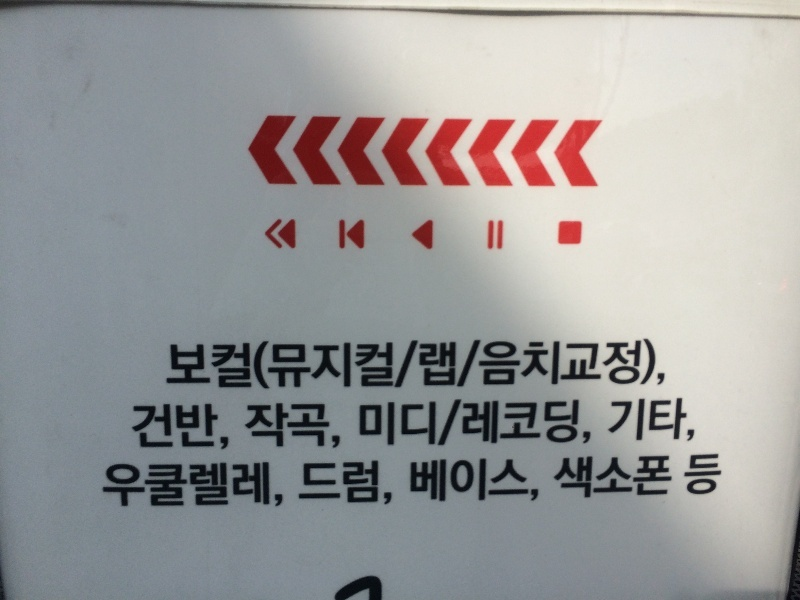text: (177, 338, 192, 393), (193, 338, 208, 393), (209, 338, 224, 393), (225, 338, 240, 393), (241, 338, 256, 393), (257, 338, 272, 393), (273, 338, 288, 393), (289, 338, 304, 393), (305, 338, 320, 393), (321, 338, 336, 393), (337, 338, 352, 393), (353, 338, 368, 393), (369, 338, 384, 393), (385, 338, 400, 393), (401, 338, 416, 393), (417, 338, 432, 393), (433, 338, 448, 393), (449, 338, 464, 393), (465, 338, 480, 393), (481, 338, 496, 393), (497, 338, 512, 393), (513, 338, 528, 393), (529, 338, 544, 393), (545, 338, 560, 393), (561, 338, 576, 393), (577, 338, 592, 393), (593, 338, 608, 393), (609, 338, 624, 393), (625, 338, 640, 393), (641, 338, 656, 393), (129, 402, 144, 452), (145, 402, 160, 452), (161, 402, 176, 452), (177, 402, 192, 452), (193, 402, 208, 452), (209, 402, 224, 452), (257, 402, 272, 452), (273, 402, 288, 452), (289, 402, 304, 452), (305, 402, 320, 452), (321, 402, 336, 452), (369, 399, 384, 449), (385, 399, 400, 449), (401, 399, 416, 449), (417, 399, 432, 449), (433, 399, 448, 449), (449, 399, 464, 449), (465, 399, 480, 449), (481, 399, 496, 449), (497, 399, 512, 449), (513, 399, 528, 449), (529, 399, 544, 449), (545, 399, 560, 449), (561, 399, 576, 449), (577, 399, 592, 449), (305, 459, 320, 509), (321, 459, 336, 509), (337, 459, 352, 509), (353, 459, 368, 509), (369, 459, 384, 509), (113, 462, 128, 511), (129, 462, 144, 511), (145, 462, 160, 511), (161, 462, 176, 511), (177, 462, 192, 511), (193, 462, 208, 511), (209, 462, 224, 511), (225, 462, 240, 511), (241, 462, 256, 511), (257, 462, 272, 511), (561, 452, 576, 501), (577, 452, 592, 501), (593, 452, 608, 501), (609, 452, 624, 501), (625, 452, 640, 501), (641, 452, 656, 501), (657, 452, 672, 501), (673, 452, 688, 501), (689, 452, 704, 501), (705, 452, 720, 501), (417, 457, 432, 505), (433, 457, 448, 505), (449, 457, 464, 505), (465, 457, 480, 505), (481, 457, 496, 505), (497, 457, 512, 505), (513, 457, 528, 505), (529, 457, 544, 505), (625, 398, 640, 444), (641, 398, 656, 444), (657, 398, 672, 444), (673, 398, 688, 444), (657, 338, 669, 393), (243, 402, 256, 452), (610, 398, 624, 444), (273, 462, 286, 511), (358, 399, 368, 449), (385, 459, 395, 509), (689, 398, 699, 444), (225, 402, 233, 452), (337, 402, 345, 452), (104, 462, 112, 511), (169, 338, 176, 393), (410, 457, 416, 505), (556, 452, 560, 501), (593, 399, 595, 449), (302, 459, 304, 509), (721, 452, 723, 501)
